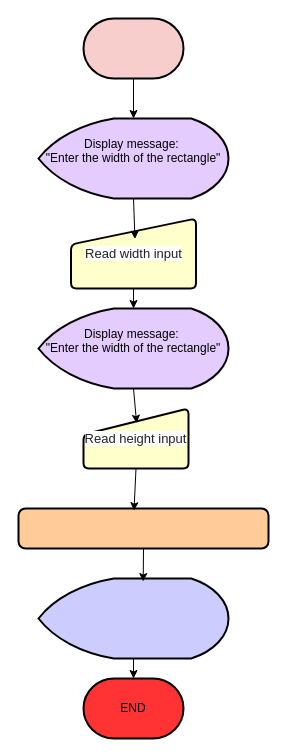
Some shapes in this 286 by 756 pixel diagram are drawn without their labels. Here are the shapes that lost their labels. From the top down, the box of each, then its label:
(82, 17, 184, 79): Star
(17, 507, 269, 549): Calculate area: area = width * height
(37, 577, 229, 659): Display message: "The area of the rectangle is", area
